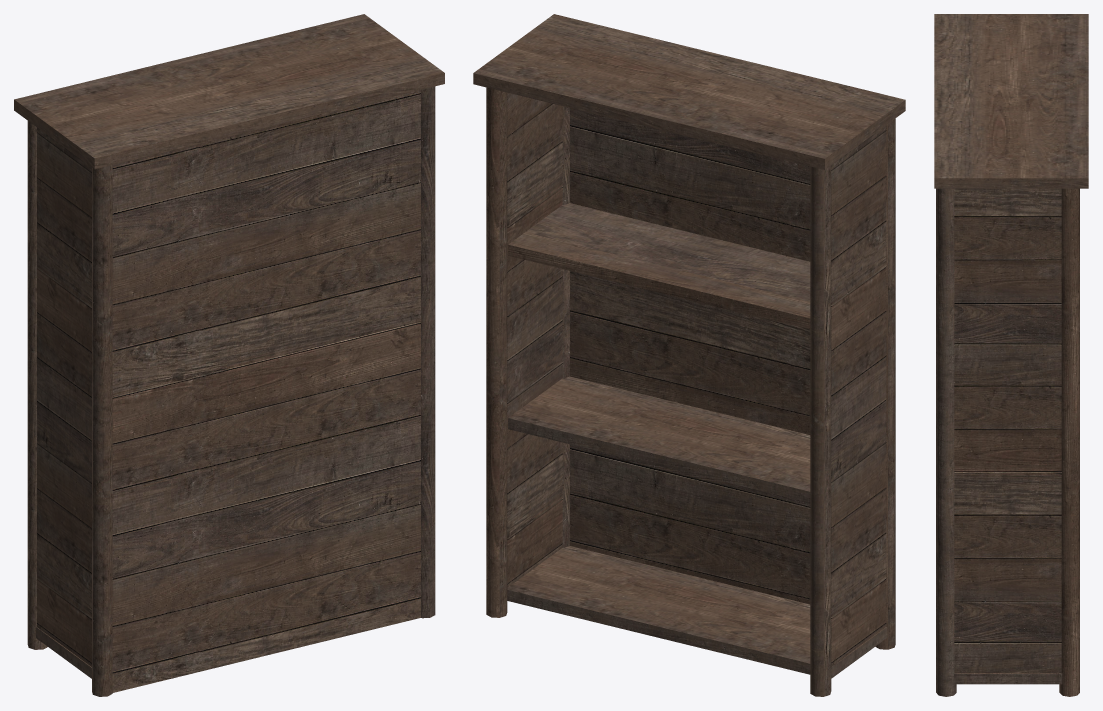
The model's file is mw_bookshelf_01.FBX.
The picture shows the model from 3 angles, left to right: view 1: azimuth 30°, elevation 25°; view 2: azimuth 150°, elevation 25°; view 3: azimuth 270°, elevation 25°; orthographic projection. The views are drawn at different scales.
Visible parts, largest first — view 1: mw_bookshelf_01; view 2: mw_bookshelf_01; view 3: mw_bookshelf_01.
Boxes of the visible parts, x1,y1,x2,y2 form: mw_bookshelf_01: (14, 14, 444, 696); mw_bookshelf_01: (473, 14, 905, 696); mw_bookshelf_01: (934, 14, 1088, 696).
Bounding box in the file's own units: 171 × 253 × 68.05.
